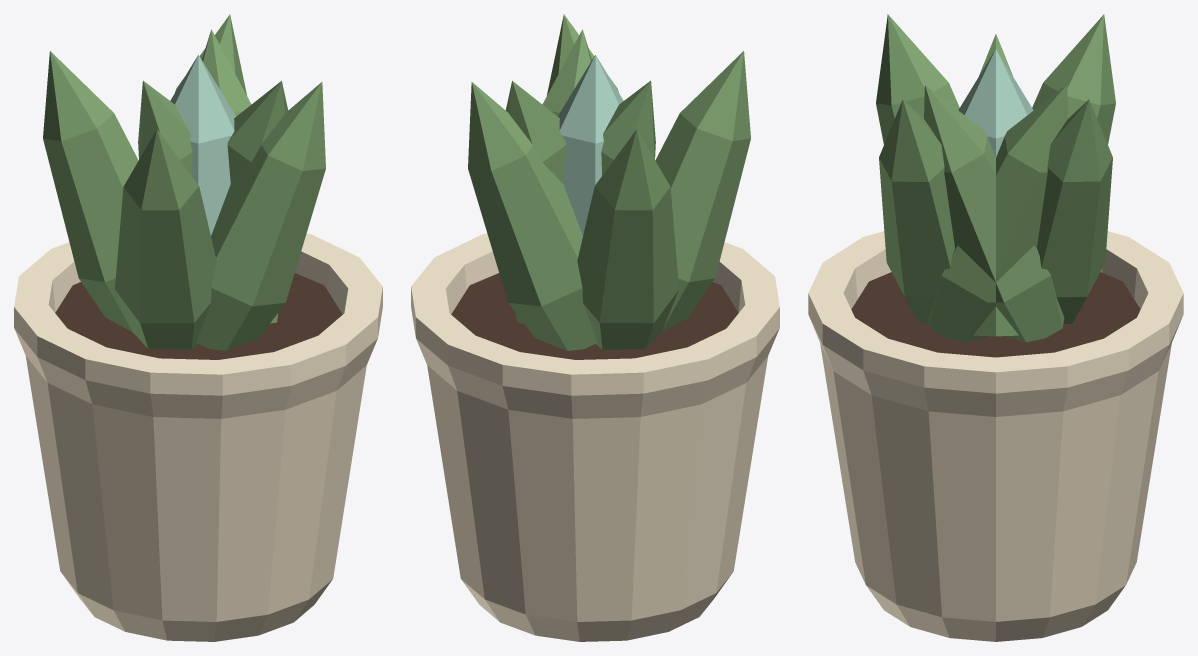
The model's file is 11_Counter_Plant.glb.
3 views of the same model, side by side, from view 1: azimuth 30°, elevation 25°; view 2: azimuth 150°, elevation 25°; view 3: azimuth 270°, elevation 25° (orthographic).
Parts seen in each view (by area): view 1: 11_Counter_Plant__Body; view 2: 11_Counter_Plant__Body; view 3: 11_Counter_Plant__Body.
Part boxes in pixels (x1,y1,x2,y2): 11_Counter_Plant__Body: [14, 14, 382, 641]; 11_Counter_Plant__Body: [411, 14, 779, 641]; 11_Counter_Plant__Body: [808, 14, 1183, 641].
Bounding box in the file's own units: 0.96 × 1.53 × 0.96.
Materials: 1 (1 with a texture image).
